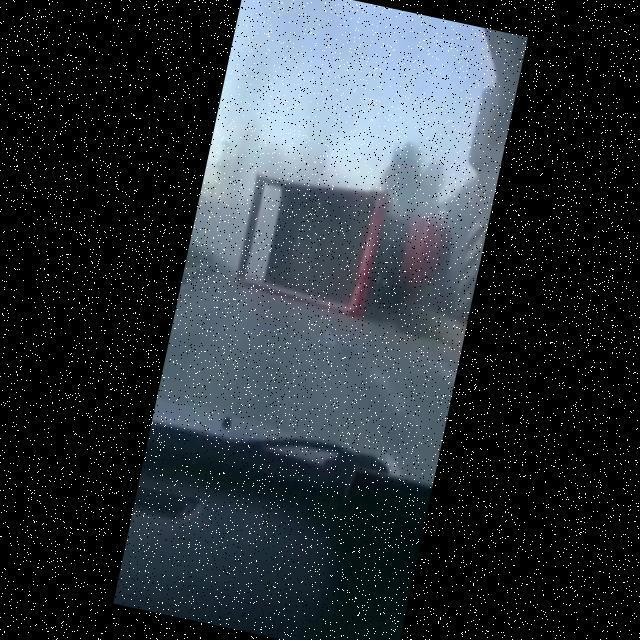accident: (225, 152, 464, 343)
